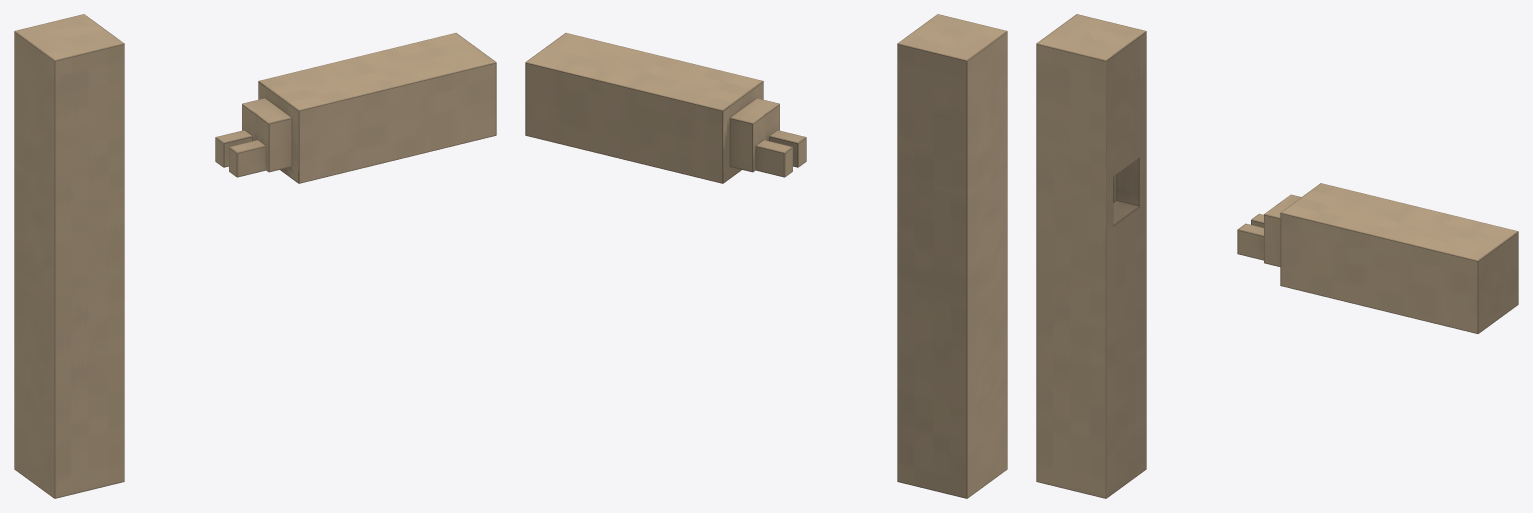
Rendered from shitakone-hozo-tasuki-gake.glb.
3 renders of one model, left to right at view 1: azimuth 30°, elevation 25°; view 2: azimuth 150°, elevation 25°; view 3: azimuth 330°, elevation 25°, orthographic.
Visible parts, largest first — view 1: part-a, part-b; view 2: part-a, part-b; view 3: part-a, part-b.
Part boxes in pixels (<box>): part-a: <box>14,14,124,498</box>; part-b: <box>215,33,496,183</box>; part-a: <box>897,14,1007,498</box>; part-b: <box>525,33,806,183</box>; part-a: <box>1036,14,1146,498</box>; part-b: <box>1237,183,1518,333</box>.
Bounding box in the file's own units: 0.7608 × 0.7208 × 0.1208.
